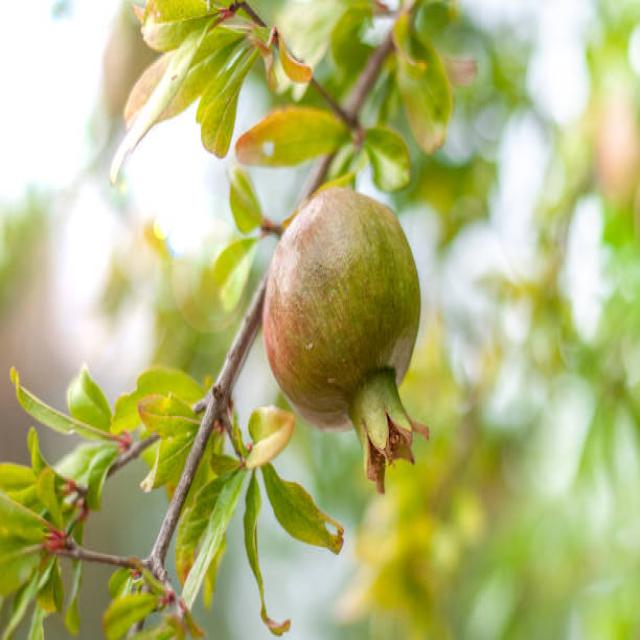Unripe: (264, 187, 433, 496)
